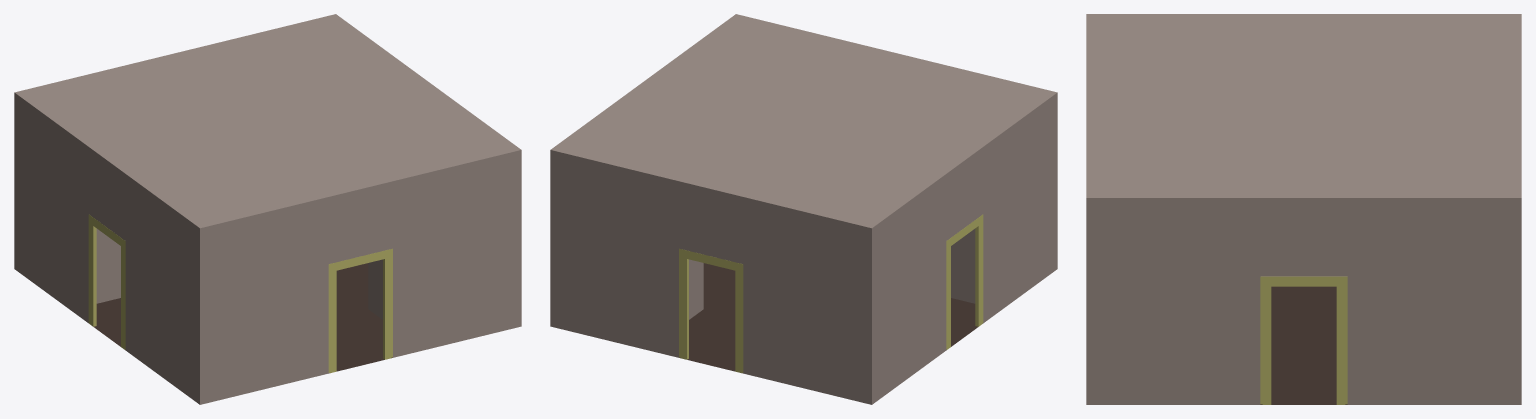
File: Room15_CreakyHallway.fbx
3 renders of one model, left to right at view 1: azimuth 30°, elevation 25°; view 2: azimuth 150°, elevation 25°; view 3: azimuth 270°, elevation 25°, orthographic. The views are drawn at different scales.
Visible parts, largest first — view 1: Roof, WallSlicedPosZ, WallSlicedPosX, WallSlicedPosZ19, WallSlicedPosX6, Floor, DoorFramePosZ, DoorFramePosX, pCube85, pCube87, WallSlicedNegX, WallSlicedNegZ; view 2: Roof, WallSlicedNegZ, WallSlicedPosX, WallSlicedNegZ22, WallSlicedPosX6, Floor, DoorFrameNegZ, DoorFramePosX, pCube84, pCube86, WallSlicedNegX, WallSlicedPosZ; view 3: Roof, WallSlicedNegX, WallSlicedNegX19, Floor, DoorFrameNegX, WallSlicedPosZ, WallSlicedNegZ, WallSlicedPosX.
Boxes of the visible parts, bbox=[...] form: Roof: bbox=[17, 15, 518, 227]; WallSlicedPosZ: bbox=[199, 149, 521, 364]; WallSlicedPosX: bbox=[14, 92, 201, 363]; WallSlicedPosZ19: bbox=[198, 286, 521, 404]; WallSlicedPosX6: bbox=[14, 229, 201, 404]; Floor: bbox=[89, 263, 392, 373]; DoorFramePosZ: bbox=[328, 248, 392, 372]; DoorFramePosX: bbox=[88, 214, 125, 349]; pCube85: bbox=[96, 228, 120, 303]; pCube87: bbox=[368, 259, 382, 319]; WallSlicedNegX: bbox=[335, 14, 521, 286]; WallSlicedNegZ: bbox=[14, 14, 334, 226]; Roof: bbox=[553, 15, 1054, 227]; WallSlicedNegZ: bbox=[550, 149, 872, 364]; WallSlicedPosX: bbox=[870, 92, 1056, 364]; WallSlicedNegZ22: bbox=[550, 286, 872, 404]; WallSlicedPosX6: bbox=[869, 230, 1056, 404]; Floor: bbox=[679, 263, 982, 373]; DoorFrameNegZ: bbox=[679, 248, 743, 372]; DoorFramePosX: bbox=[946, 214, 983, 349]; pCube84: bbox=[951, 228, 975, 303]; pCube86: bbox=[689, 259, 703, 319]; WallSlicedNegX: bbox=[550, 14, 736, 286]; WallSlicedPosZ: bbox=[737, 14, 1057, 228]; Roof: bbox=[1088, 14, 1519, 197]; WallSlicedNegX: bbox=[1086, 197, 1521, 357]; WallSlicedNegX19: bbox=[1086, 357, 1521, 404]; Floor: bbox=[1260, 286, 1347, 404]; DoorFrameNegX: bbox=[1260, 276, 1347, 404]; WallSlicedPosZ: bbox=[1086, 14, 1087, 357]; WallSlicedNegZ: bbox=[1520, 14, 1521, 357]; WallSlicedPosX: bbox=[1088, 14, 1521, 14].
Size of the model in its own units: 800 by 420 by 800.
